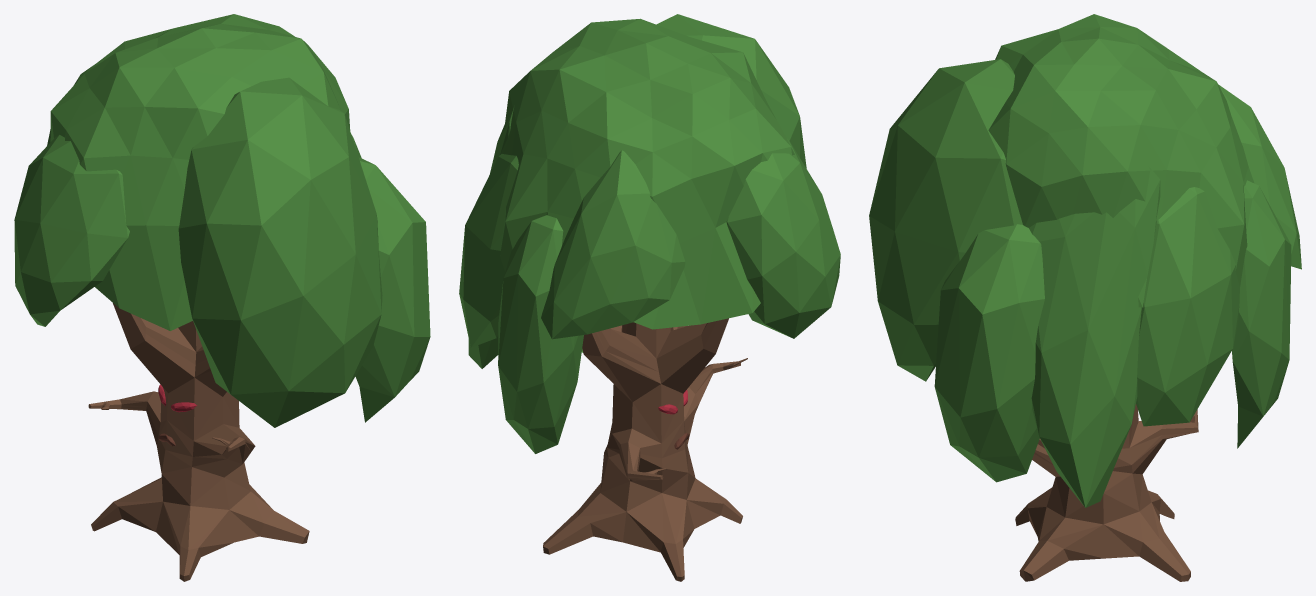
File: Ent_Forest.FBX
3 views of the same model, side by side, from view 1: azimuth 30°, elevation 25°; view 2: azimuth 150°, elevation 25°; view 3: azimuth 270°, elevation 25° (orthographic). The views are drawn at different scales.
Parts seen in each view (by area): view 1: GeoSphere032, GeoSphere036, Cylinder021, GeoSphere031, GeoSphere037; view 2: GeoSphere036, Cylinder021, GeoSphere033, GeoSphere031, GeoSphere038, GeoSphere035, GeoSphere032, GeoSphere034; view 3: GeoSphere036, GeoSphere032, GeoSphere034, GeoSphere037, GeoSphere035, Cylinder021, GeoSphere038, GeoSphere033.
Part boxes in pixels (<box>): GeoSphere032: <box>178,77,382,427</box>; GeoSphere036: <box>50,14,350,330</box>; Cylinder021: <box>88,303,309,581</box>; GeoSphere031: <box>14,135,129,326</box>; GeoSphere037: <box>355,157,430,422</box>; GeoSphere036: <box>500,18,794,329</box>; Cylinder021: <box>543,318,747,581</box>; GeoSphere033: <box>541,150,685,339</box>; GeoSphere031: <box>726,138,840,338</box>; GeoSphere038: <box>498,215,583,453</box>; GeoSphere035: <box>459,154,518,347</box>; GeoSphere032: <box>656,14,806,168</box>; GeoSphere034: <box>468,105,514,368</box>; GeoSphere036: <box>988,14,1254,307</box>; GeoSphere032: <box>869,59,1022,381</box>; GeoSphere034: <box>1029,166,1160,507</box>; GeoSphere037: <box>934,224,1044,482</box>; GeoSphere035: <box>1136,187,1239,426</box>; Cylinder021: <box>1015,404,1198,581</box>; GeoSphere038: <box>1232,180,1291,448</box>; GeoSphere033: <box>1218,84,1301,269</box>.
Bounding box in the file's own units: 32.69 × 42.86 × 32.61.
